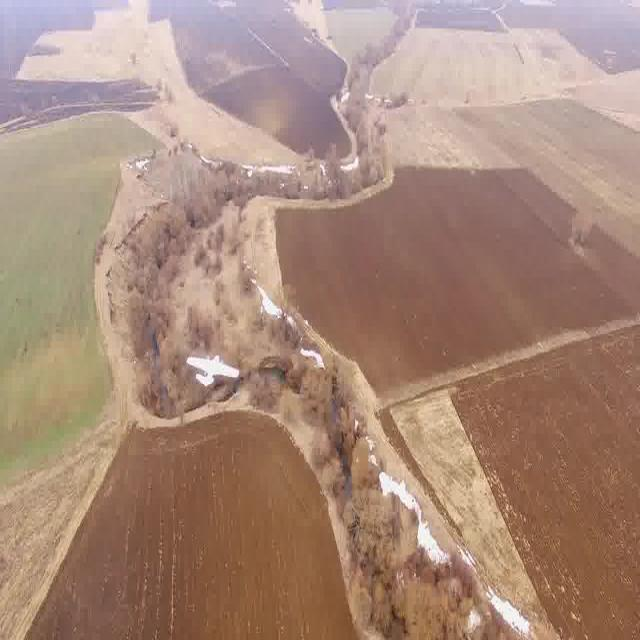iha: (205, 382, 221, 385)
